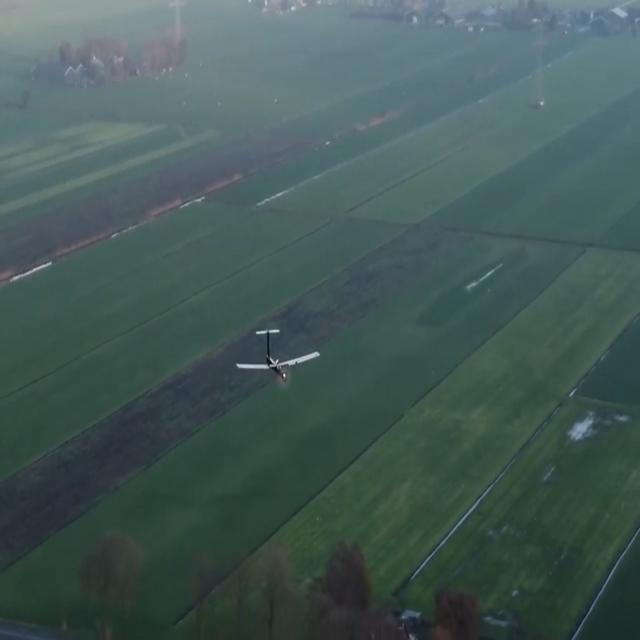iha: (267, 351, 288, 357)
